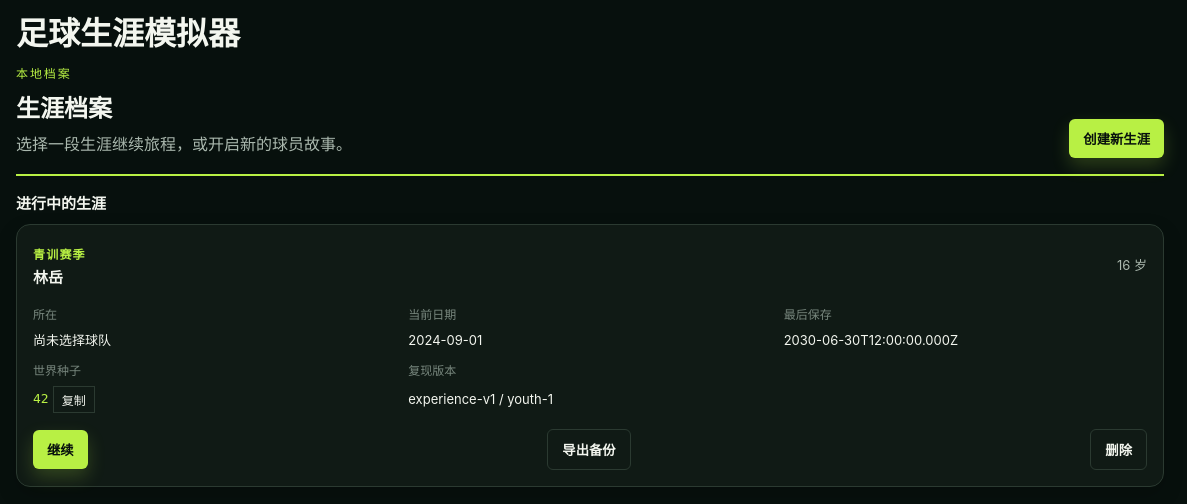
Test case: App › resumes a saved pending event instead of opening the dashboard
Click the button with aria-label "继续林岳的生涯": (60,449) [33,430,88,468]
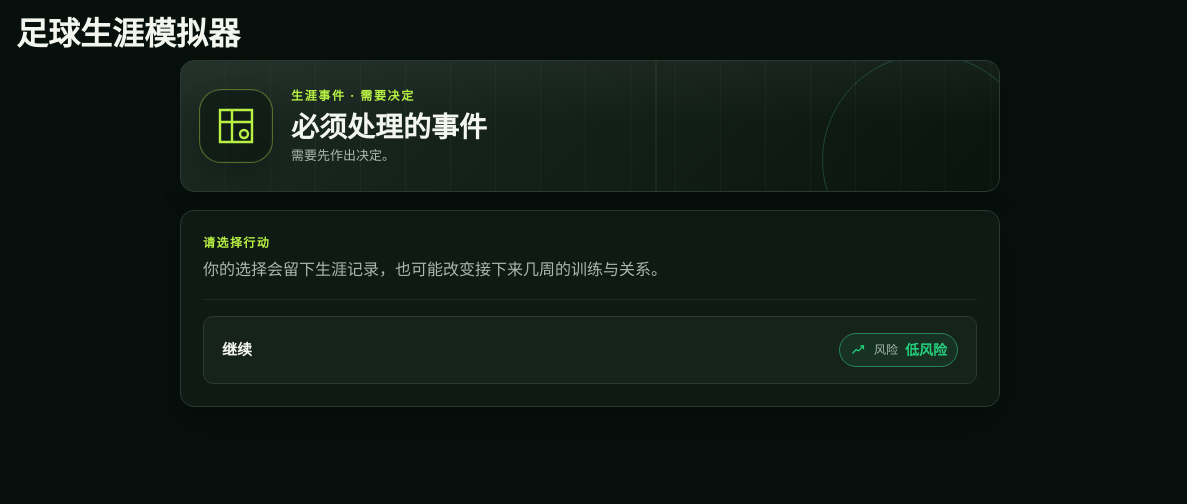
Expected: the heading "必须处理的事件" is shown, [291,107,487,145]
